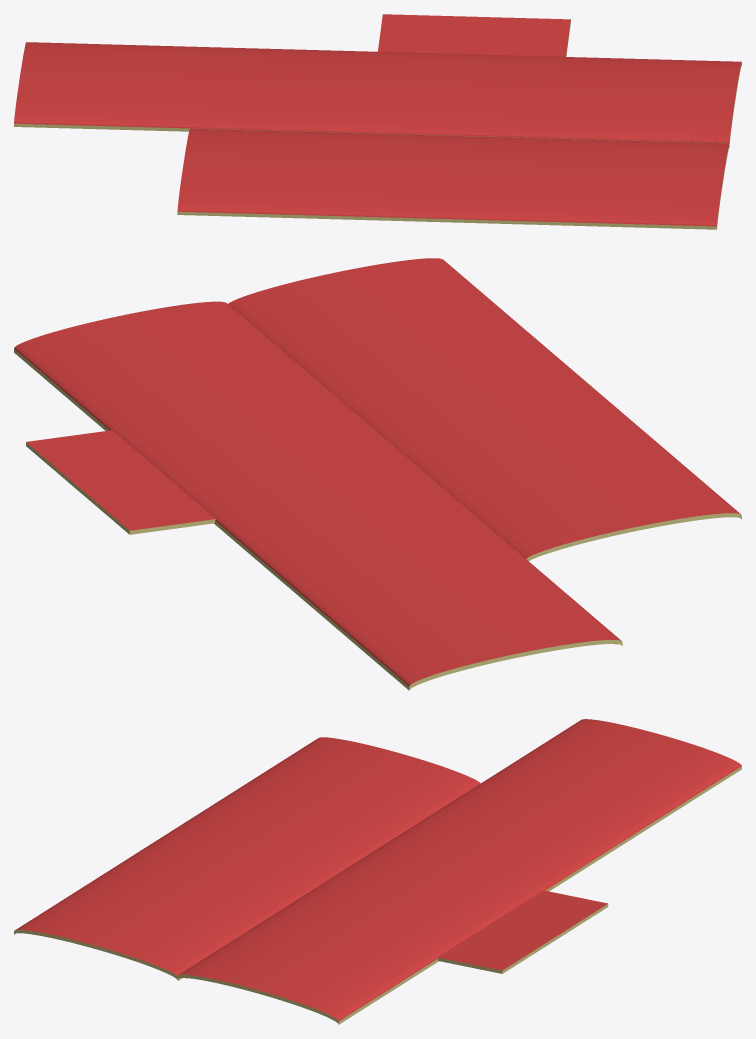
3 views of the same model, one above another, from view 1: azimuth 30°, elevation 25°; view 2: azimuth 150°, elevation 25°; view 3: azimuth 270°, elevation 25° (orthographic). The views are drawn at different scales.
Visible parts, largest first — view 1: group_6, group_3, group_9, group_4, group_7; view 2: group_6, group_3, group_9, group_7, group_4, group_10; view 3: group_6, group_3, group_9, group_7, group_10, group_4.
Part boxes in pixels (x1=…): group_6: x1=14, y1=42, x2=741, y2=143; group_3: x1=177, y1=128, x2=729, y2=226; group_9: x1=378, y1=14, x2=570, y2=56; group_4: x1=177, y1=143, x2=729, y2=229; group_7: x1=14, y1=62, x2=741, y2=143; group_6: x1=14, y1=301, x2=621, y2=686; group_3: x1=228, y1=258, x2=740, y2=558; group_9: x1=26, y1=430, x2=215, y2=530; group_7: x1=14, y1=349, x2=622, y2=690; group_4: x1=526, y1=513, x2=741, y2=560; group_10: x1=26, y1=442, x2=215, y2=534; group_6: x1=179, y1=719, x2=741, y2=1020; group_3: x1=15, y1=737, x2=480, y2=975; group_9: x1=437, y1=890, x2=607, y2=970; group_7: x1=177, y1=766, x2=741, y2=1024; group_10: x1=437, y1=904, x2=608, y2=973; group_4: x1=14, y1=930, x2=182, y2=980.
Size of the model in its own units: 19.26 by 19.69 by 0.397.
